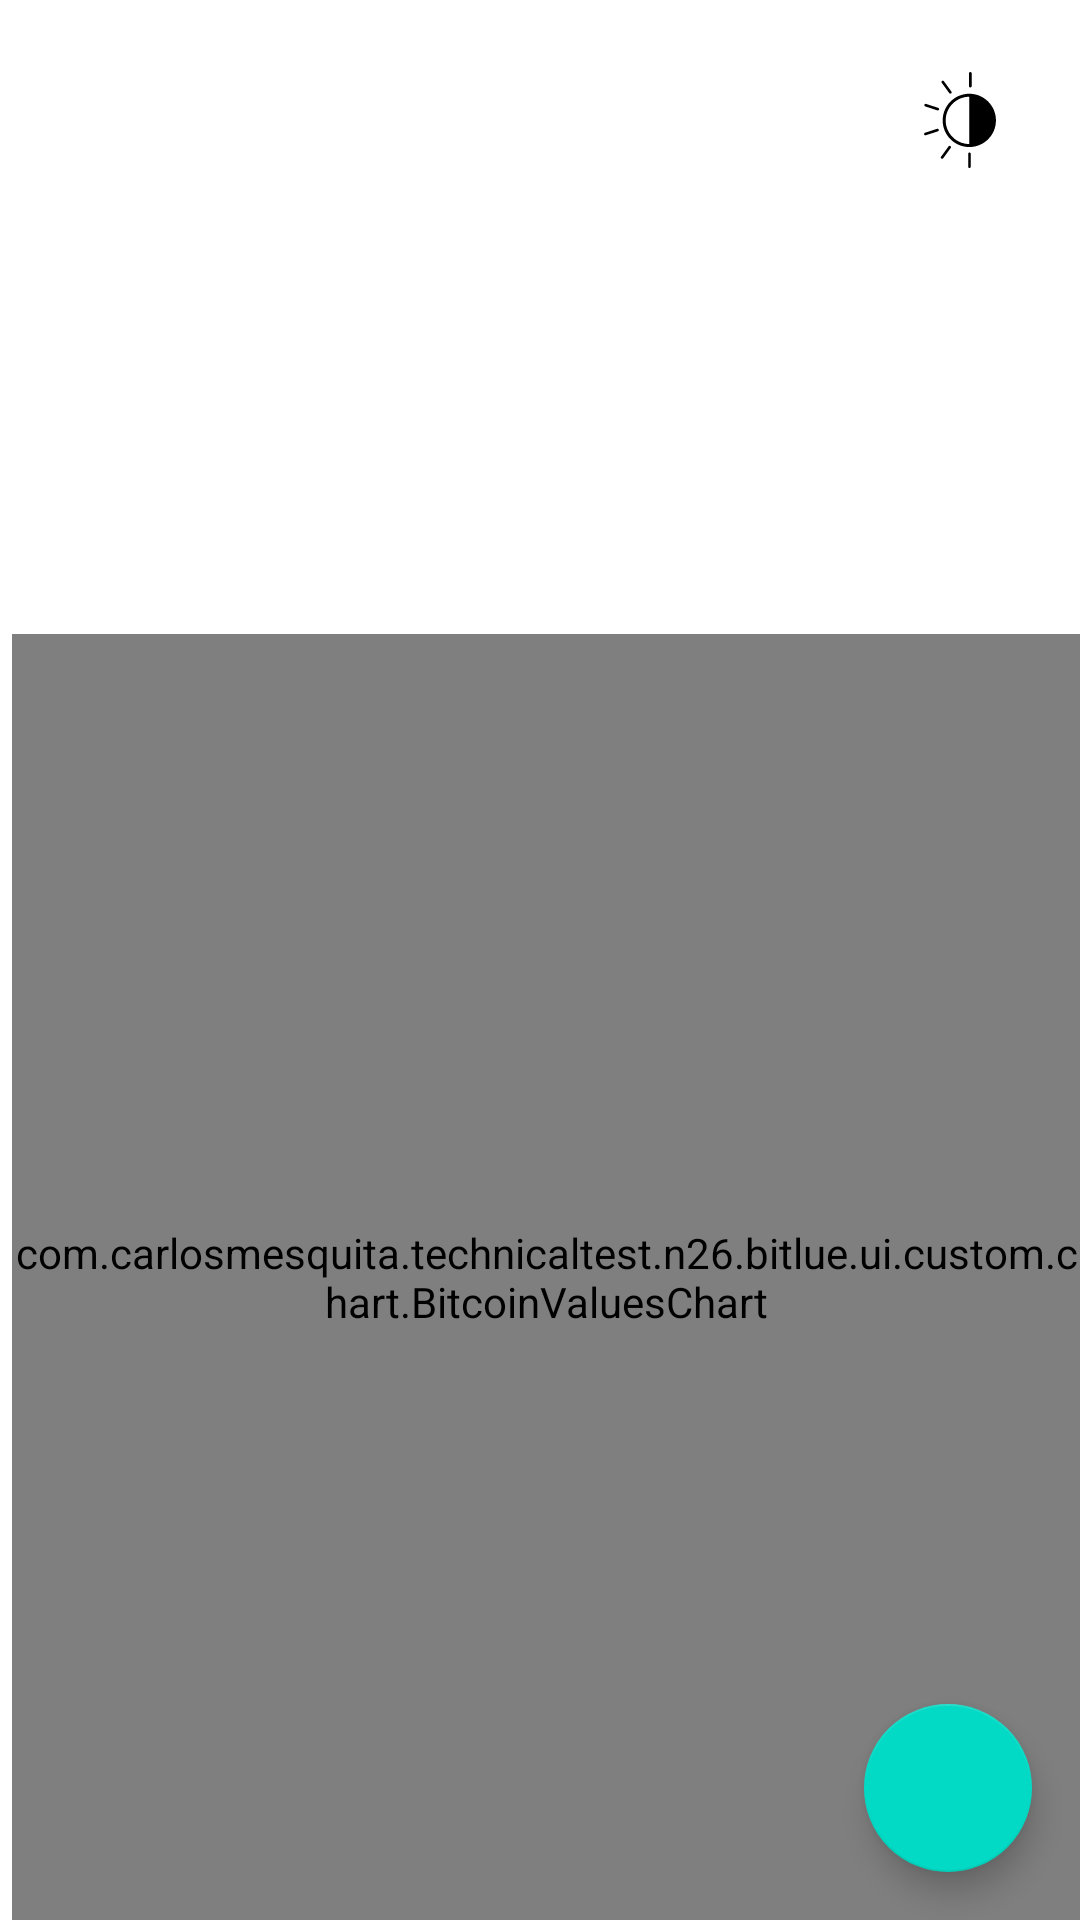

Icon bounding boxes for this 1080*1920 phone screenshot, format {"left": x1, "top": y1, "right": x2, "bottom": y2}:
day night: {"left": 924, "top": 72, "right": 996, "bottom": 168}
